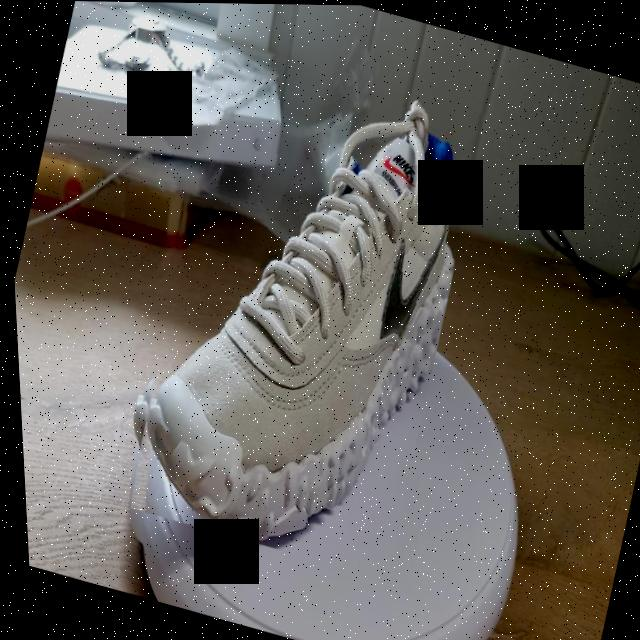shoe: (88, 37, 505, 580)
